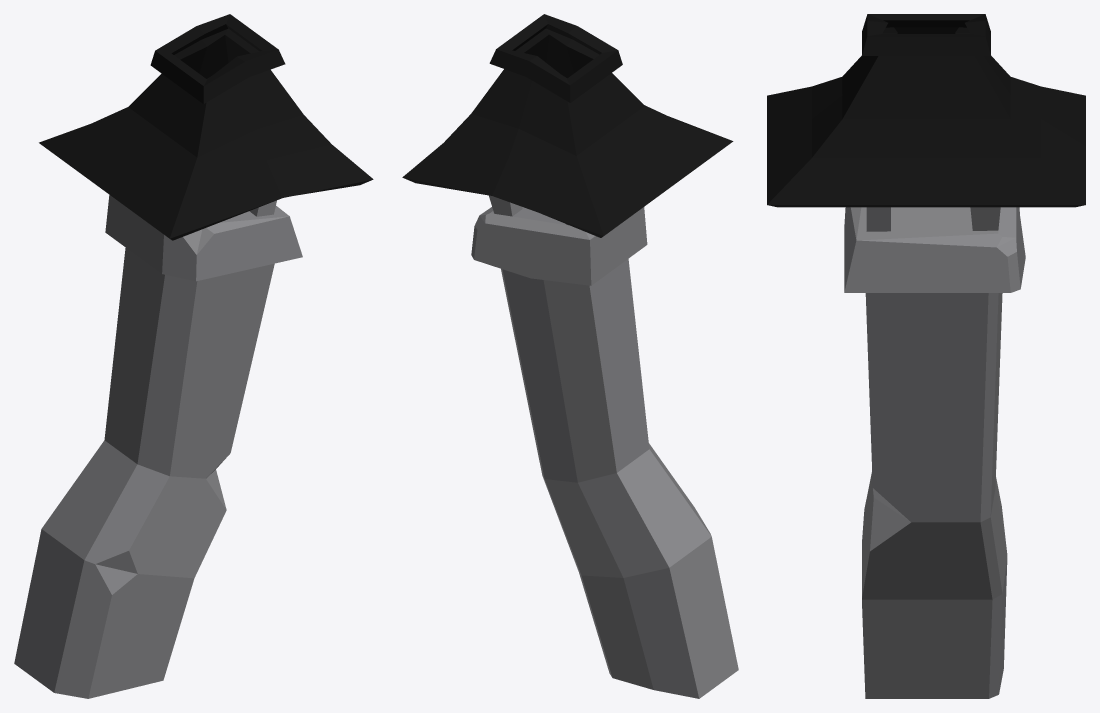
The model's file is WF_LP_HT_Build_Chimney.001.fbx.
3 views of the same model, side by side, from view 1: azimuth 30°, elevation 25°; view 2: azimuth 150°, elevation 25°; view 3: azimuth 270°, elevation 25° (orthographic). The views are drawn at different scales.
Visible parts, largest first — view 1: WF_LP_HT_Build_Chimney.001; view 2: WF_LP_HT_Build_Chimney.001; view 3: WF_LP_HT_Build_Chimney.001.
Boxes of the visible parts, left/top/right/bottom form: WF_LP_HT_Build_Chimney.001: left=14, top=14, right=373, bottom=698; WF_LP_HT_Build_Chimney.001: left=402, top=14, right=738, bottom=698; WF_LP_HT_Build_Chimney.001: left=767, top=14, right=1085, bottom=698.
Bounding box in the file's own units: 1.59 × 3.46 × 1.37.
